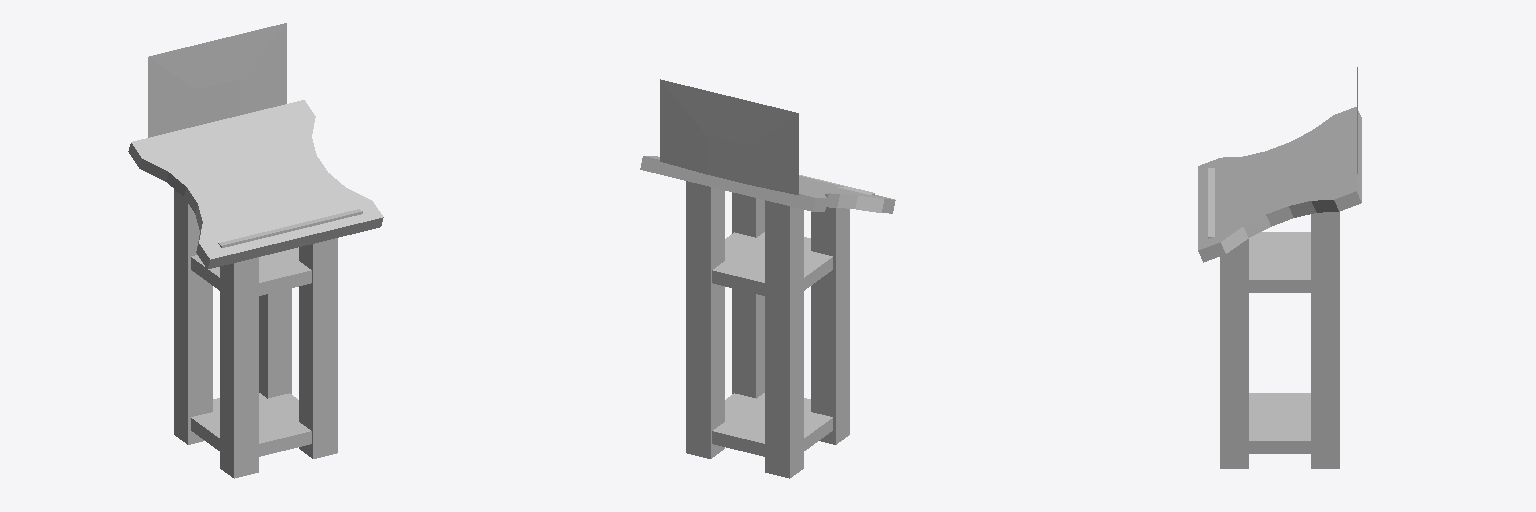
The model's file is lectern_manifest.obj.
3 renders of one model, left to right at view 1: azimuth 30°, elevation 25°; view 2: azimuth 150°, elevation 25°; view 3: azimuth 270°, elevation 25°, orthographic.
Visible parts, largest first — view 1: FrontLegs_Cube.001, LecternHead_Cube.006, LecternBack_Cube.004, BackLegs_Cube.008, Manifest_Plane, PlateBottom_Cube.012, PlateTop_Cube.011, LecternCatch_Cube.007; view 2: BackLegs_Cube.008, FrontLegs_Cube.001, LecternBack_Cube.004, LecternHead_Cube.006, PlateTop_Cube.011, PlateBottom_Cube.012; view 3: LecternHead_Cube.006, BackLegs_Cube.008, FrontLegs_Cube.001, Manifest_Plane, PlateBottom_Cube.012, PlateTop_Cube.011.
Boxes of the visible parts, box(x1,y1,x2,y2) form: FrontLegs_Cube.001: box(220, 238, 337, 478); LecternHead_Cube.006: box(128, 100, 383, 269); LecternBack_Cube.004: box(148, 23, 286, 137); BackLegs_Cube.008: box(174, 189, 291, 444); Manifest_Plane: box(182, 125, 332, 226); PlateBottom_Cube.012: box(191, 393, 311, 456); PlateTop_Cube.011: box(191, 247, 311, 295); LecternCatch_Cube.007: box(218, 209, 362, 247); BackLegs_Cube.008: box(686, 181, 803, 478); FrontLegs_Cube.001: box(732, 192, 849, 444); LecternBack_Cube.004: box(660, 79, 798, 194); LecternHead_Cube.006: box(640, 156, 895, 213); PlateTop_Cube.011: box(712, 232, 832, 295); PlateBottom_Cube.012: box(712, 393, 832, 456); LecternHead_Cube.006: box(1198, 107, 1361, 262); BackLegs_Cube.008: box(1311, 212, 1339, 468); FrontLegs_Cube.001: box(1220, 239, 1248, 468); Manifest_Plane: box(1225, 131, 1330, 218); PlateBottom_Cube.012: box(1249, 393, 1310, 453); PlateTop_Cube.011: box(1249, 232, 1310, 292).
Size of the model in its own units: 0.875 by 1.81 by 0.7168.